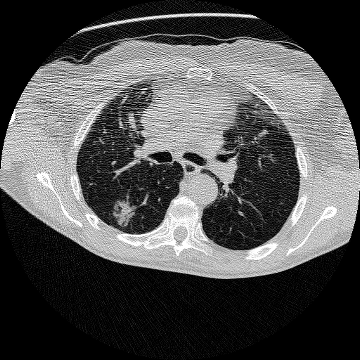nodule: (113, 202, 137, 226)
